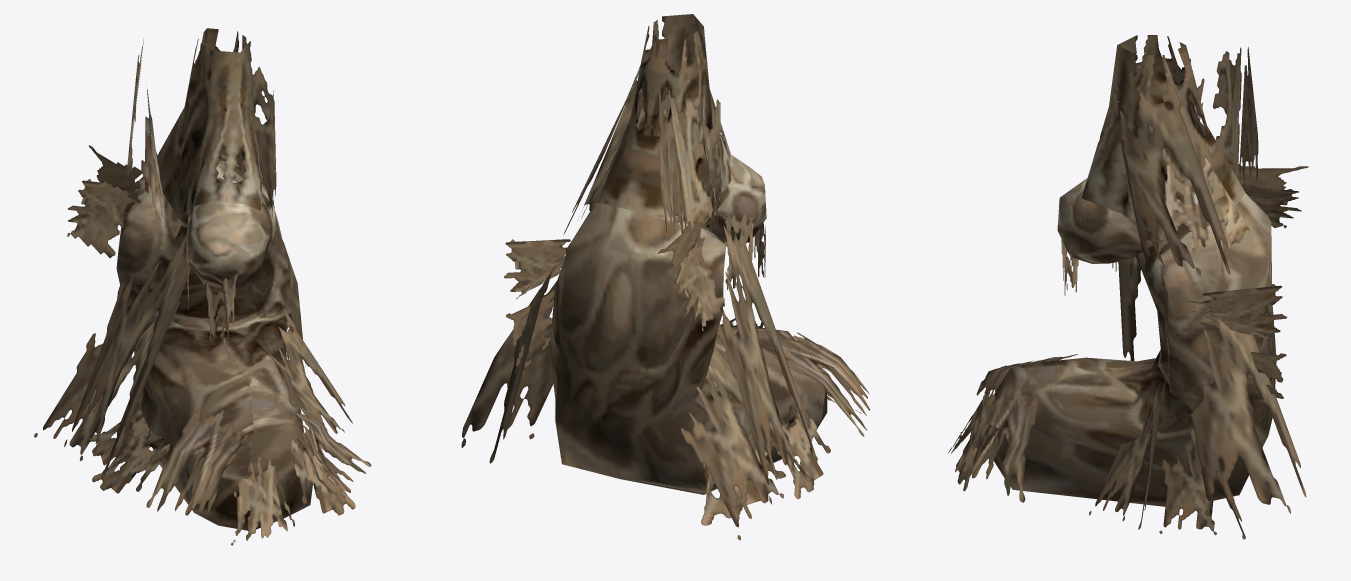
The model's file is webbed_victim11_3471f4f6.glb.
3 renders of one model, left to right at view 1: azimuth 30°, elevation 25°; view 2: azimuth 150°, elevation 25°; view 3: azimuth 270°, elevation 25°, orthographic. The views are drawn at different scales.
Bounding box in the file's own units: 1.5 × 1.99 × 1.64.
Materials: 1 (1 with a texture image).
